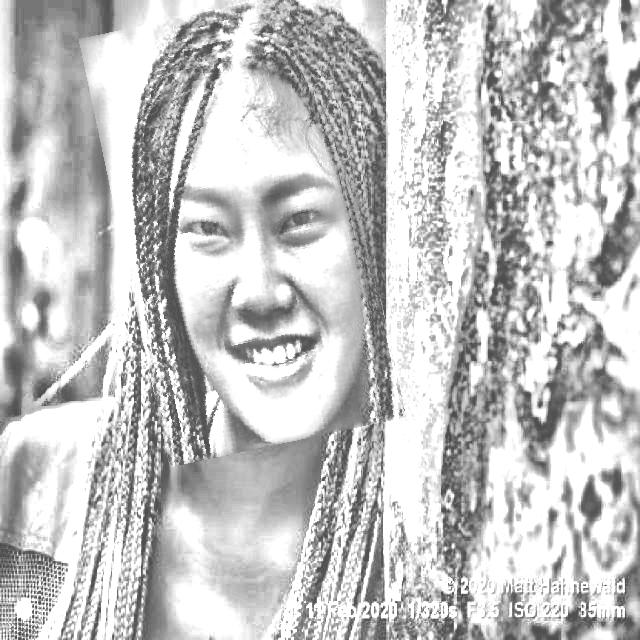happy: (100, 0, 385, 457)
